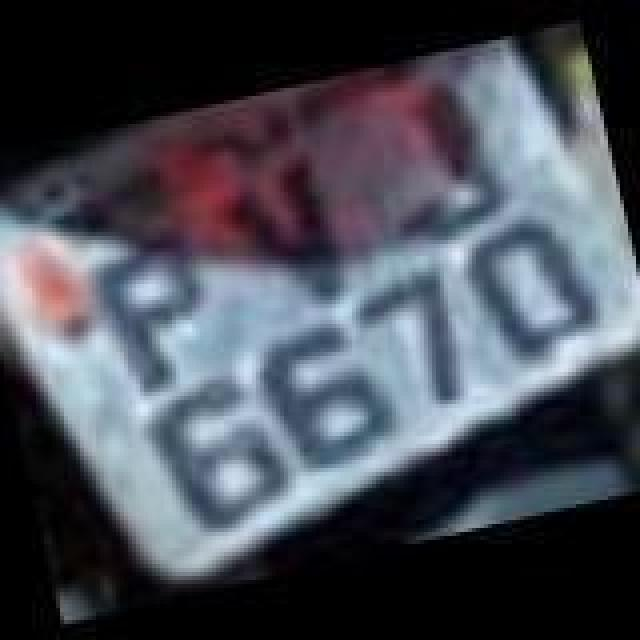6: (134, 364, 290, 540), (248, 306, 400, 478)
7: (342, 256, 474, 416)
J: (368, 66, 512, 246)
O: (462, 200, 610, 368)
P: (76, 228, 228, 396)
V: (218, 150, 358, 322)
